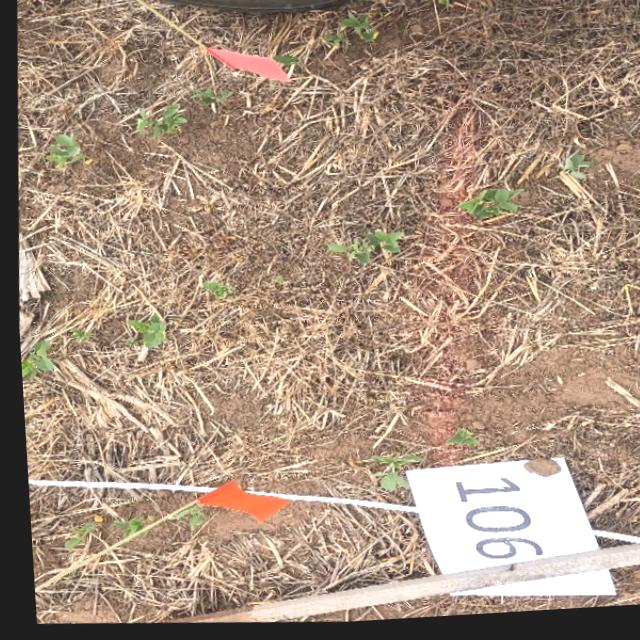soy_plant: (323, 236, 399, 269), (363, 458, 417, 496), (323, 15, 378, 50), (455, 196, 518, 225), (134, 105, 185, 140), (124, 315, 161, 349), (44, 135, 82, 168), (17, 341, 49, 380), (57, 523, 90, 550), (560, 160, 590, 188), (187, 90, 230, 108), (107, 519, 147, 538), (169, 507, 195, 532), (439, 433, 473, 452), (198, 284, 227, 302), (420, 0, 452, 12), (65, 330, 86, 344)
